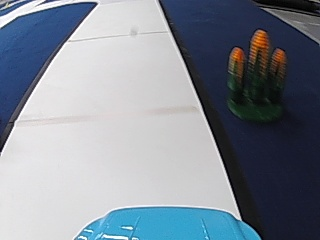corn: (226, 27, 288, 126)
